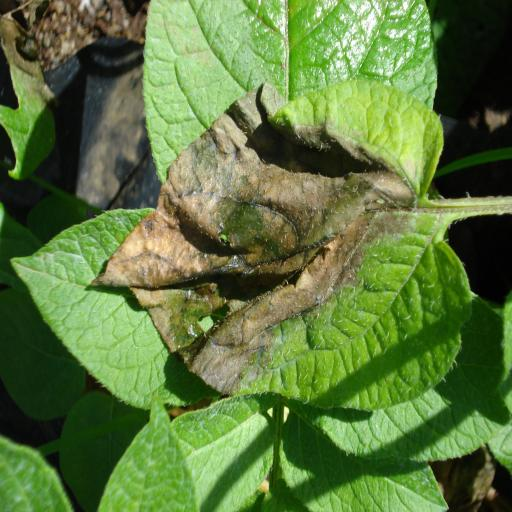disease_tomato: (98, 76, 472, 420)
